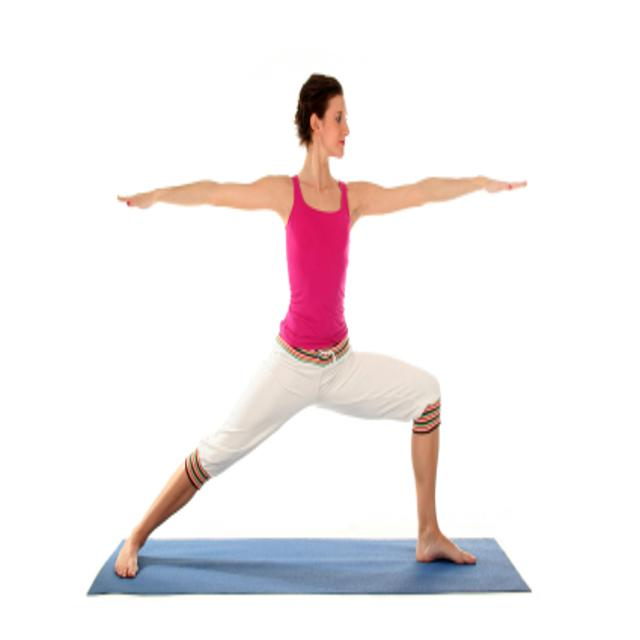Warrior_II: (104, 60, 529, 576)
